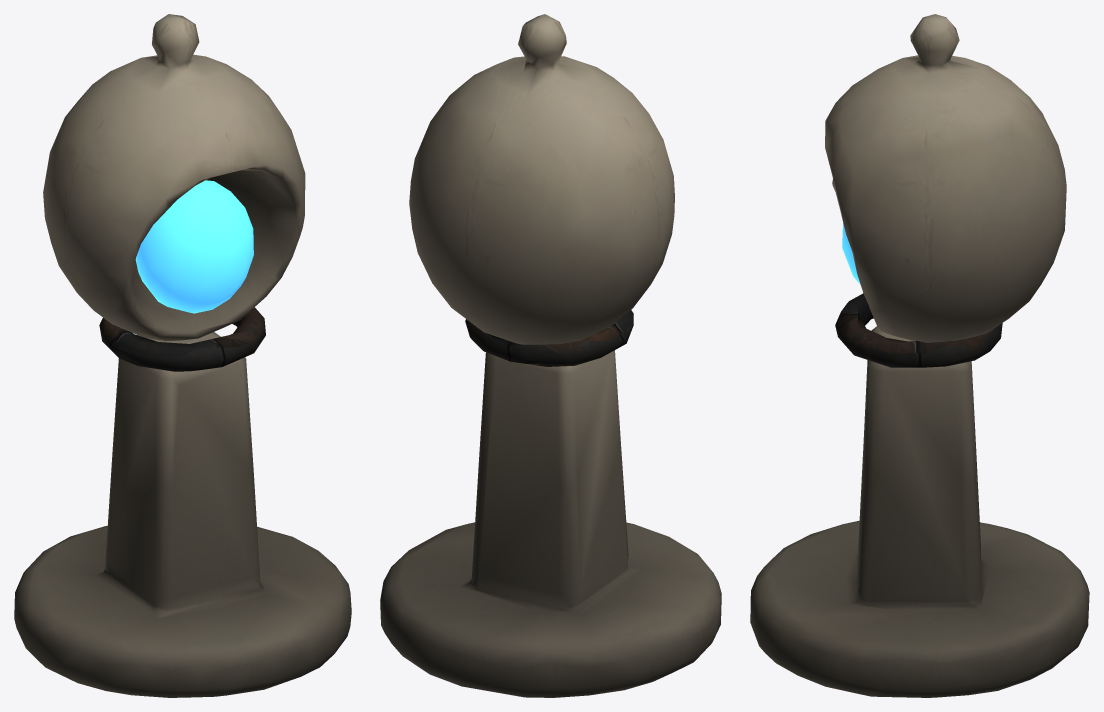
Rendered from hooded_lamp.glb.
3 views of the same model, side by side, from view 1: azimuth 30°, elevation 25°; view 2: azimuth 150°, elevation 25°; view 3: azimuth 270°, elevation 25° (orthographic).
Parts seen in each view (by area): view 1: ward_body, ward_hood, ward_lamp, ward_band; view 2: ward_body, ward_hood, ward_band; view 3: ward_body, ward_hood, ward_band.
Boxes of the visible parts, box(x1,y1,x2,y2) form: ward_body: box(14, 332, 351, 697); ward_hood: box(43, 14, 305, 340); ward_lamp: box(135, 180, 253, 313); ward_band: box(99, 307, 265, 371); ward_body: box(380, 350, 721, 697); ward_hood: box(409, 14, 674, 344); ward_band: box(465, 310, 633, 366); ward_body: box(750, 326, 1089, 697); ward_hood: box(825, 14, 1066, 342); ward_band: box(835, 293, 1002, 367).
Bounding box in the file's own units: 0.4358 × 0.8771 × 0.4362.
Materials: 3 (2 with a texture image).
